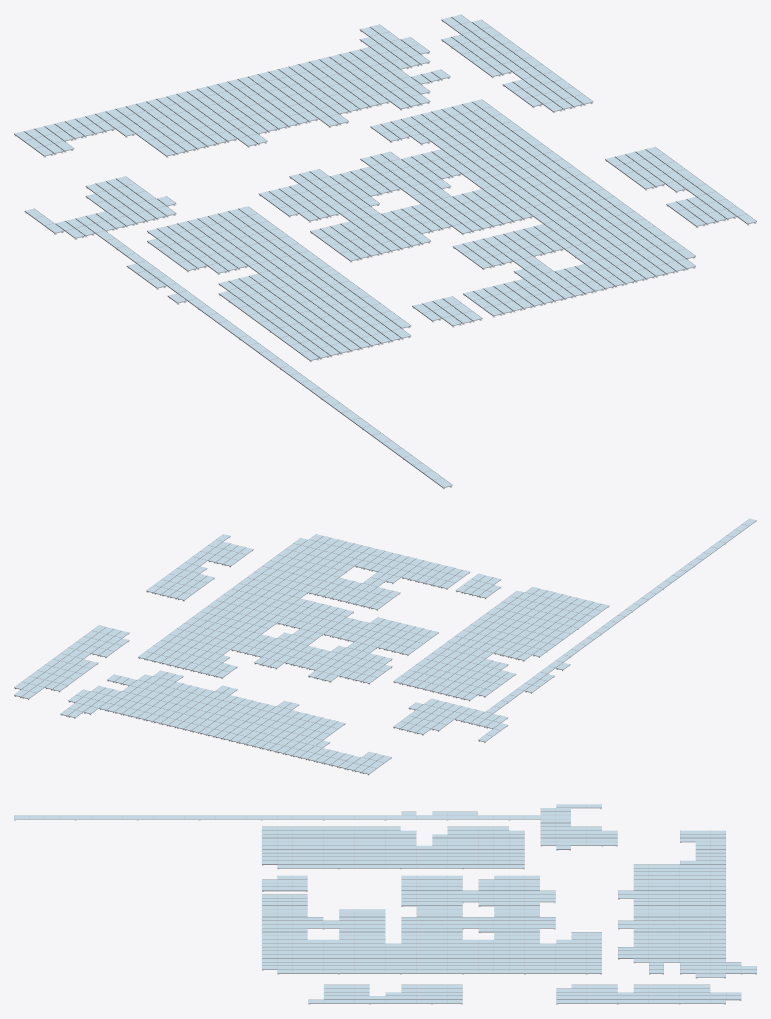
The model's file is SM_MPR4_SolarBank_01_1.fbx.
3 renders of one model, top to bottom at view 1: azimuth 30°, elevation 25°; view 2: azimuth 150°, elevation 25°; view 3: azimuth 270°, elevation 25°, orthographic. The views are drawn at different scales.
Parts seen in each view (by area): view 1: SM_MPR4_SolarBank_01_1; view 2: SM_MPR4_SolarBank_01_1; view 3: SM_MPR4_SolarBank_01_1.
Part boxes in pixels (x1=…): SM_MPR4_SolarBank_01_1: x1=14, y1=14, x2=756, y2=489; SM_MPR4_SolarBank_01_1: x1=14, y1=518, x2=756, y2=775; SM_MPR4_SolarBank_01_1: x1=14, y1=804, x2=756, y2=1004.
Size of the model in its own units: 5929 by 9354 by 24.
